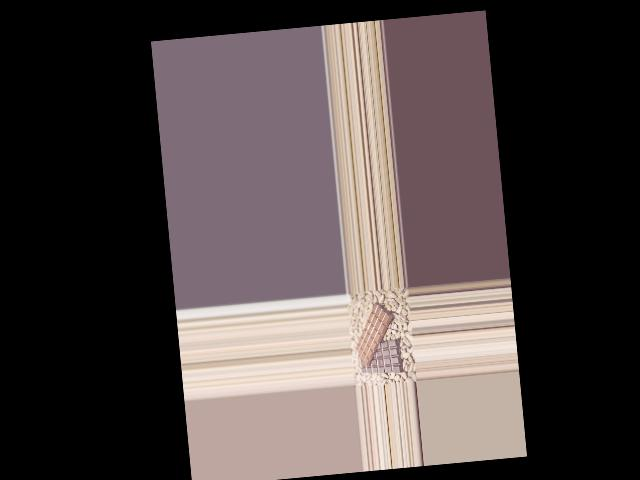chocolate: (356, 338, 405, 380)
